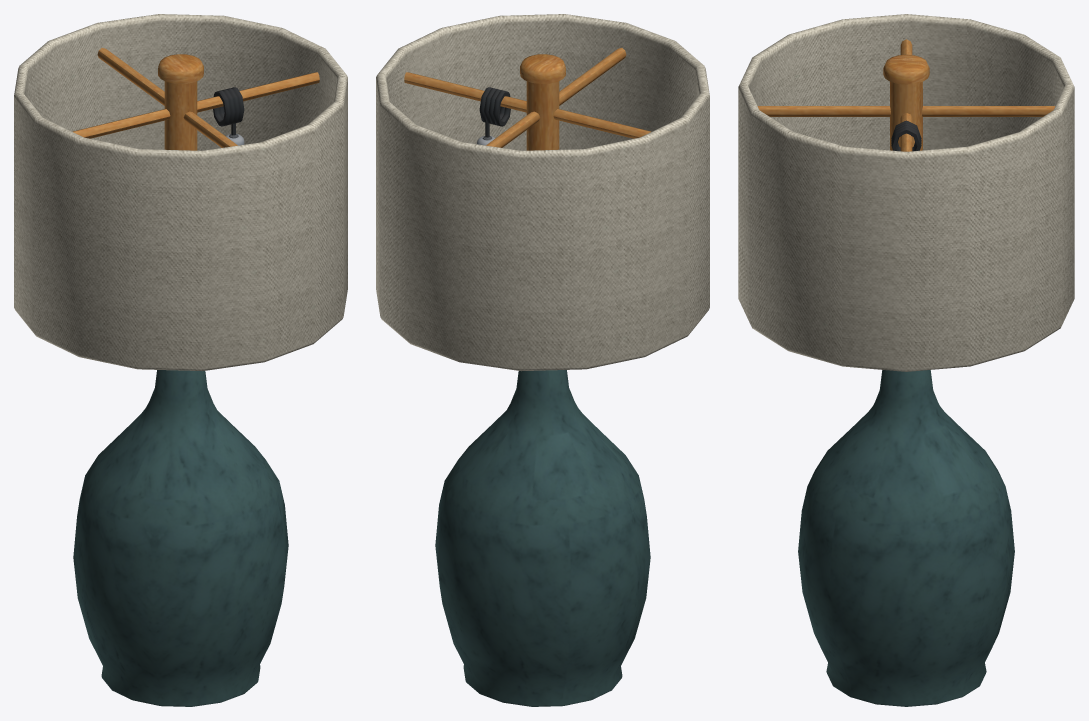
File: simple_lamp.glb
3 views of the same model, side by side, from view 1: azimuth 30°, elevation 25°; view 2: azimuth 150°, elevation 25°; view 3: azimuth 270°, elevation 25° (orthographic).
Parts seen in each view (by area): view 1: Object_2; view 2: Object_2; view 3: Object_2.
Part boxes in pixels (x1,y1,x2,y2): Object_2: [14, 14, 347, 706]; Object_2: [376, 14, 709, 706]; Object_2: [738, 14, 1074, 706].
Bounding box in the file's own units: 3.21 × 6.45 × 3.21.
Materials: 1 (1 with a texture image).
